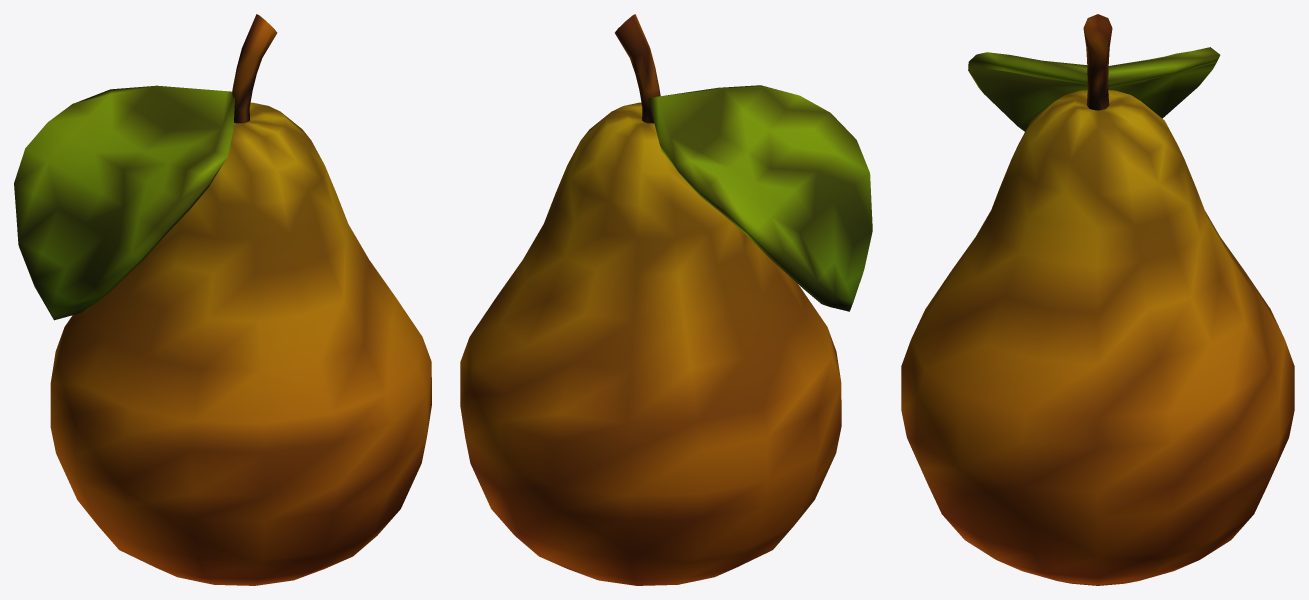
Rendered from Farm_Tree_Product_Pear_01_Rotten.fbx.
The picture shows the model from 3 angles, left to right: view 1: azimuth 30°, elevation 25°; view 2: azimuth 150°, elevation 25°; view 3: azimuth 270°, elevation 25°; orthographic projection. The views are drawn at different scales.
Visible parts, largest first — view 1: Farm_Tree_Product_Pear_01_Rotten; view 2: Farm_Tree_Product_Pear_01_Rotten; view 3: Farm_Tree_Product_Pear_01_Rotten.
Boxes of the visible parts, <box> form: Farm_Tree_Product_Pear_01_Rotten: <box>14,14,431,585</box>; Farm_Tree_Product_Pear_01_Rotten: <box>460,14,872,585</box>; Farm_Tree_Product_Pear_01_Rotten: <box>901,14,1294,585</box>.
Bounding box in the file's own units: 29.51 × 42.01 × 27.07.
